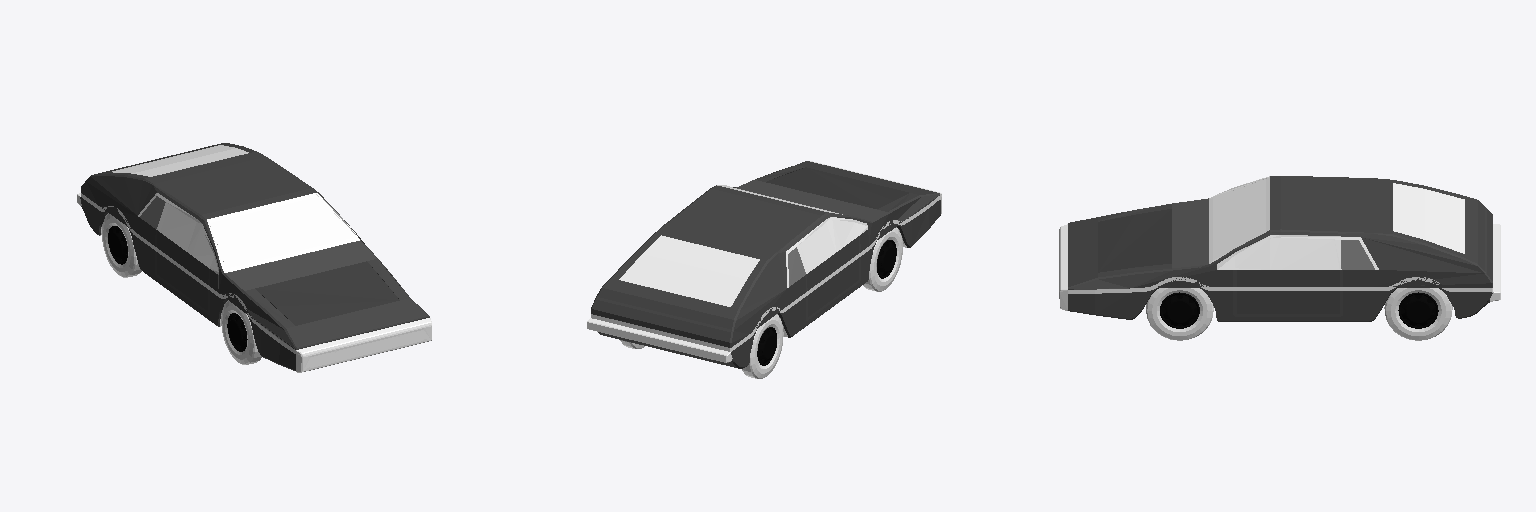
Rendered from cocheBlanco.obj.
3 renders of one model, left to right at view 1: azimuth 30°, elevation 25°; view 2: azimuth 150°, elevation 25°; view 3: azimuth 270°, elevation 25°, orthographic.
Parts seen in each view (by area): view 1: case, tires, wheels; view 2: case, tires, wheels; view 3: case, tires, wheels.
Part boxes in pixels (bbox=[...]): case: bbox=[77, 143, 431, 372]; tires: bbox=[102, 213, 261, 364]; wheels: bbox=[108, 226, 247, 351]; case: bbox=[587, 161, 941, 368]; tires: bbox=[620, 228, 902, 378]; wheels: bbox=[757, 240, 896, 365]; case: bbox=[1059, 176, 1500, 321]; tires: bbox=[1146, 288, 1452, 340]; wheels: bbox=[1160, 292, 1438, 328].
Bounding box in the file's own units: 1.14 × 0.8204 × 3.04.